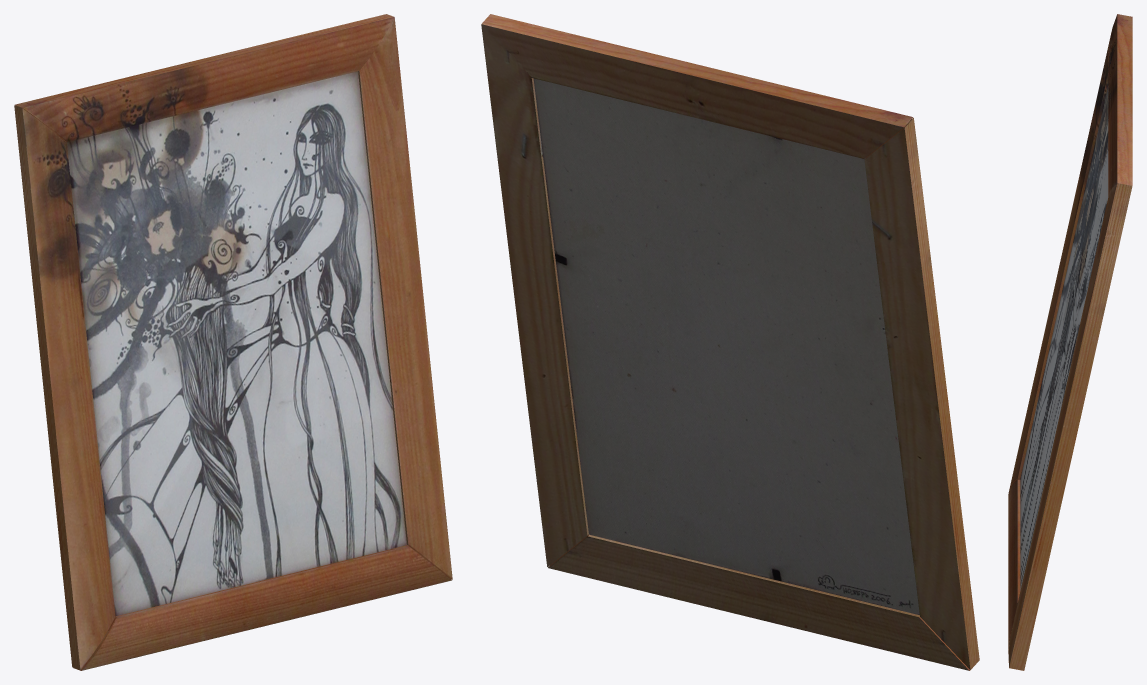
File: Ramka.fbx
The picture shows the model from 3 angles, left to right: view 1: azimuth 30°, elevation 25°; view 2: azimuth 150°, elevation 25°; view 3: azimuth 270°, elevation 25°; orthographic projection. The views are drawn at different scales.
Parts seen in each view (by area): view 1: Box001; view 2: Box001; view 3: Box001.
Boxes of the visible parts, x1,y1,x2,y2 form: Box001: (14,14,452,670); Box001: (481,14,979,670); Box001: (1008,14,1132,670).
Size of the model in its own units: 22 by 29.57 by 6.81.
2 materials, 2 textured.
